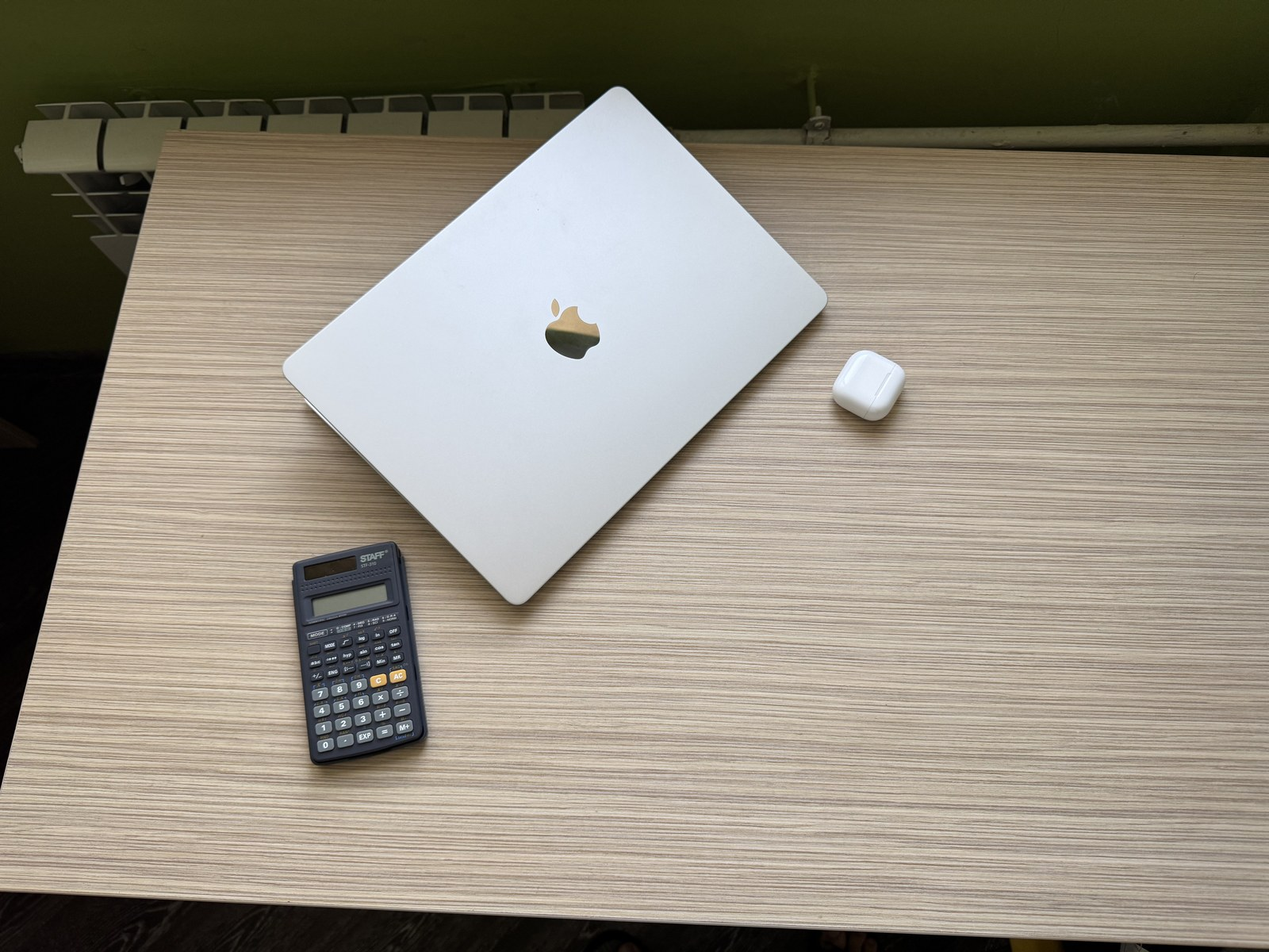laptop: (282, 85, 829, 605)
